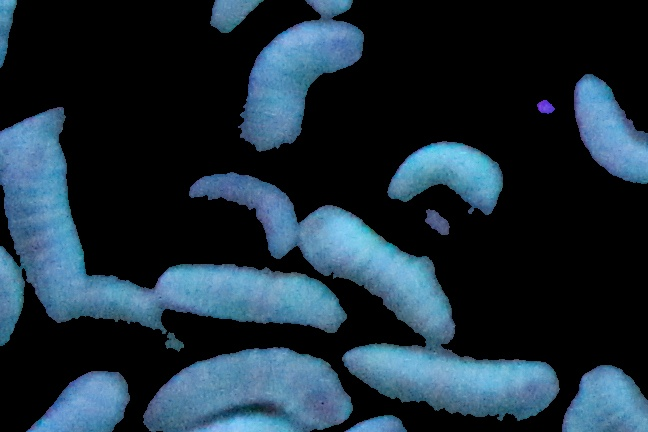larvae: (297, 205, 454, 349), (1, 111, 88, 325), (233, 21, 357, 156), (143, 348, 349, 426), (156, 263, 347, 336), (563, 68, 648, 192), (349, 361, 554, 412), (187, 172, 293, 259), (384, 136, 503, 207), (26, 357, 130, 432), (92, 273, 175, 347), (208, 1, 354, 26)
